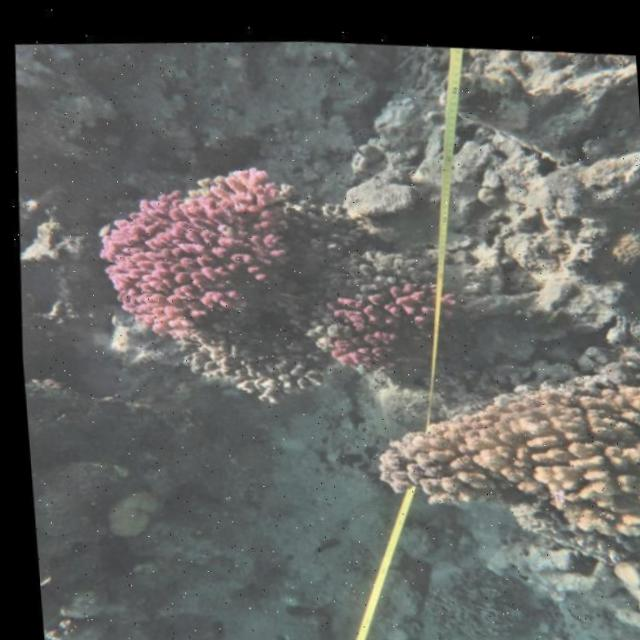Healthy Coral: (359, 353, 640, 529), (93, 149, 293, 344), (175, 293, 333, 407), (320, 259, 453, 381)
